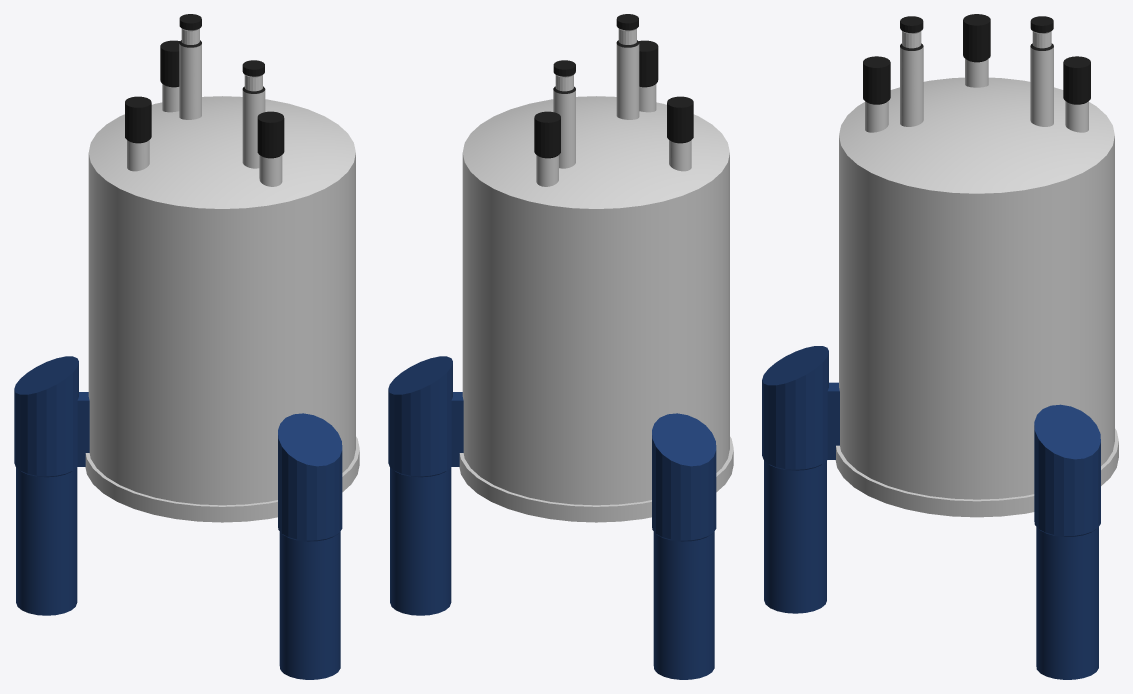
Rendered from bruker.glb.
The picture shows the model from 3 angles, left to right: view 1: azimuth 30°, elevation 25°; view 2: azimuth 150°, elevation 25°; view 3: azimuth 270°, elevation 25°; orthographic projection. The views are drawn at different scales.
Visible parts, largest first — view 1: bruker; view 2: bruker; view 3: bruker.
Boxes of the visible parts, x1,y1,x2,y2 form: bruker: (14,14,359,679); bruker: (388,14,733,679); bruker: (762,14,1118,679).
Size of the model in its own units: 0.9659 by 1.62 by 0.9051.
